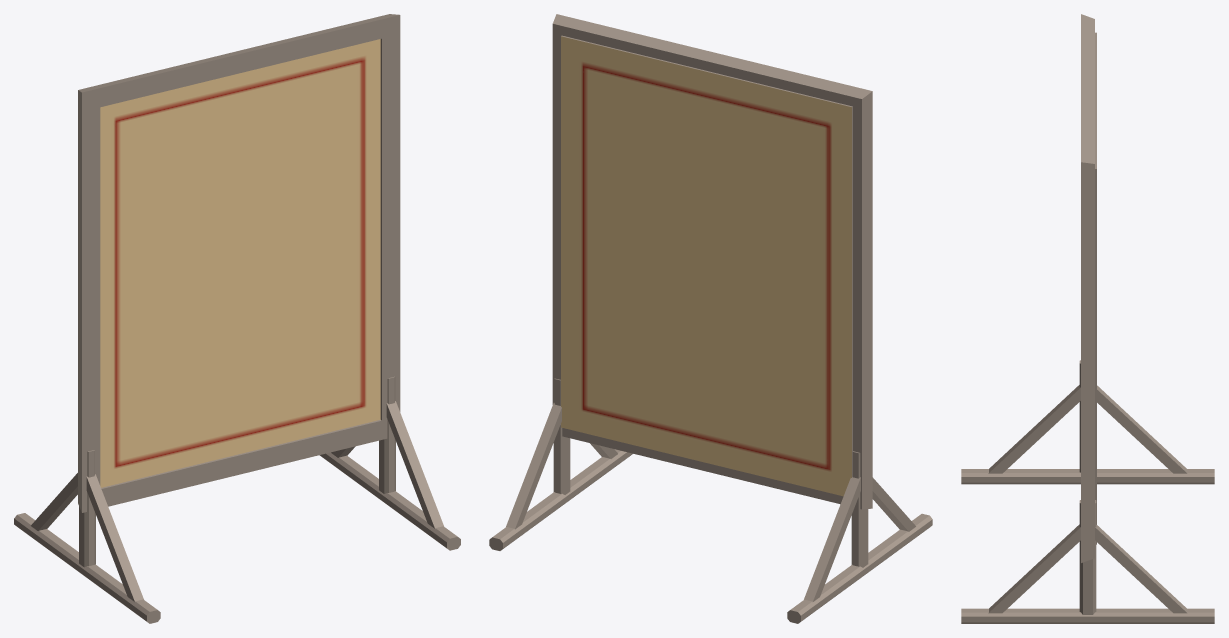
Rendered from SM_Sign_MenuPoster_Blank_01.fbx.
The picture shows the model from 3 angles, left to right: view 1: azimuth 30°, elevation 25°; view 2: azimuth 150°, elevation 25°; view 3: azimuth 270°, elevation 25°; orthographic projection. The views are drawn at different scales.
Parts seen in each view (by area): view 1: SM_Sign_MenuPoster_Blank_01; view 2: SM_Sign_MenuPoster_Blank_01; view 3: SM_Sign_MenuPoster_Blank_01.
Boxes of the visible parts, box(x1,y1,x2,y2) form: SM_Sign_MenuPoster_Blank_01: box(14, 14, 460, 623); SM_Sign_MenuPoster_Blank_01: box(489, 14, 932, 623); SM_Sign_MenuPoster_Blank_01: box(961, 14, 1214, 623).
Size of the model in its own units: 0.554 by 0.809 by 0.4.
Materials: 1 (1 with a texture image).
